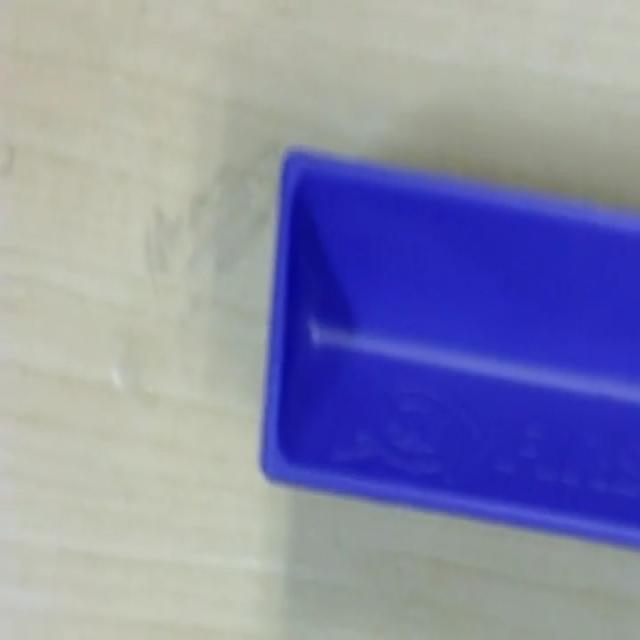blue_block: (258, 142, 639, 550)
